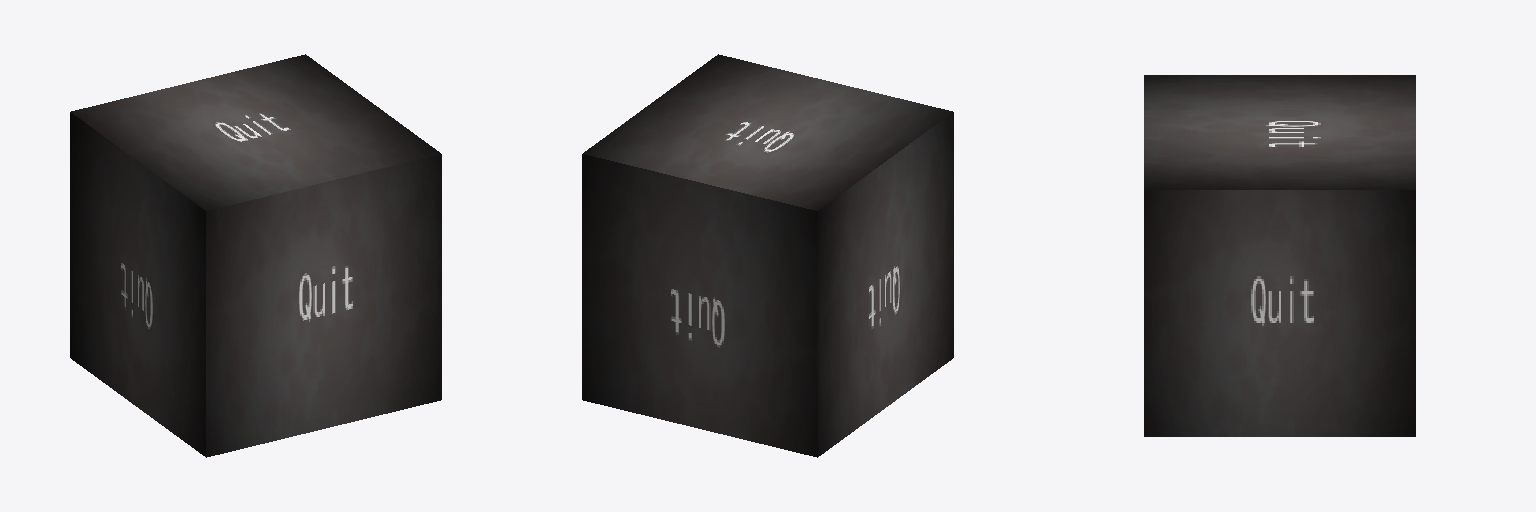
The picture shows the model from 3 angles: view 1: azimuth 30°, elevation 25°; view 2: azimuth 150°, elevation 25°; view 3: azimuth 270°, elevation 25°; orthographic projection.
Parts seen in each view (by area): view 1: Cube; view 2: Cube; view 3: Cube.
Boxes of the visible parts, x1,y1,x2,y2 form: Cube: [70, 54, 441, 457]; Cube: [582, 54, 953, 457]; Cube: [1144, 75, 1415, 436].
Size of the model in its own units: 2 by 2 by 2.
1 materials, 1 textured.